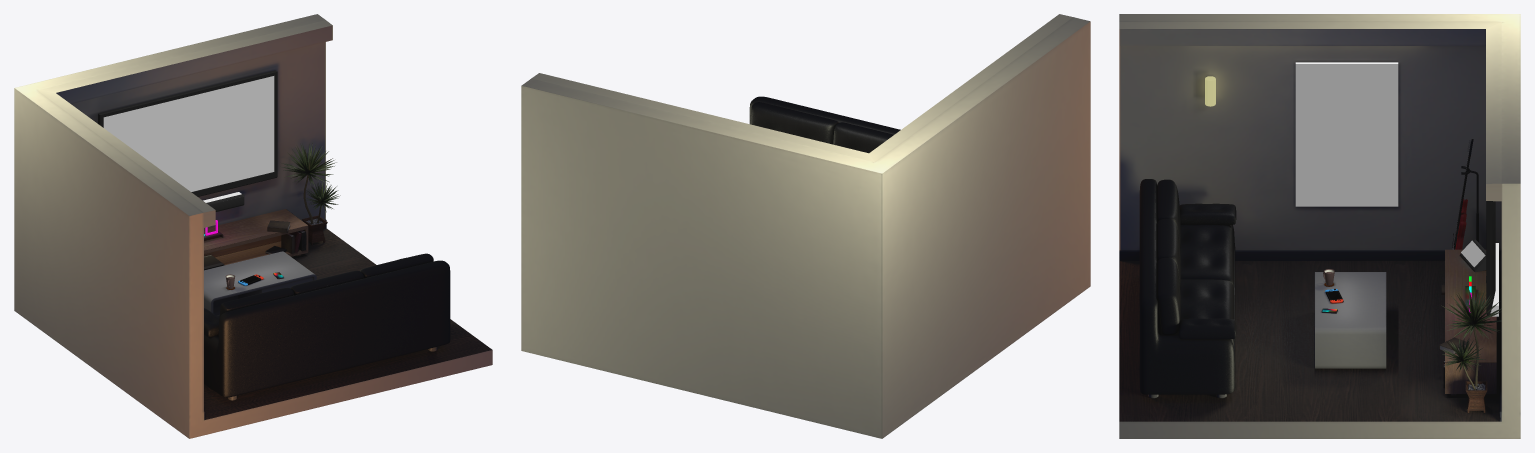
Rendered from Room.glb.
3 views of the same model, side by side, from view 1: azimuth 30°, elevation 25°; view 2: azimuth 150°, elevation 25°; view 3: azimuth 270°, elevation 25° (orthographic). The views are drawn at different scales.
Parts seen in each view (by area): view 1: Room, Sofa, TV_SCREEN, Cube.003, Tv Cabinet, 1, Television, Book4.009; view 2: Room, Sofa; view 3: Room, Sofa, PICTURE_FRAME, Cube.003, Tv Cabinet, 1, Television, 1.001.
Boxes of the visible parts, left/top/right/bottom form: Room: left=14, top=14, right=492, bottom=438; Sofa: left=204, top=253, right=450, bottom=400; TV_SCREEN: left=103, top=76, right=274, bottom=191; Cube.003: left=204, top=251, right=316, bottom=315; Tv Cabinet: left=204, top=209, right=308, bottom=265; 1: left=280, top=142, right=340, bottom=245; Television: left=98, top=70, right=277, bottom=196; Book4.009: left=265, top=220, right=305, bottom=254; Room: left=521, top=14, right=1090, bottom=438; Sofa: left=749, top=96, right=900, bottom=153; Room: left=1119, top=14, right=1520, bottom=438; Sofa: left=1139, top=179, right=1236, bottom=398; PICTURE_FRAME: left=1295, top=64, right=1398, bottom=206; Cube.003: left=1314, top=272, right=1386, bottom=368; Tv Cabinet: left=1445, top=249, right=1496, bottom=395; 1: left=1441, top=289, right=1501, bottom=412; Television: left=1486, top=201, right=1495, bottom=312; 1.001: left=1452, top=139, right=1478, bottom=249.
Size of the model in its own units: 8.4 by 5.9 by 8.4.
Materials: 21 (17 with a texture image).
